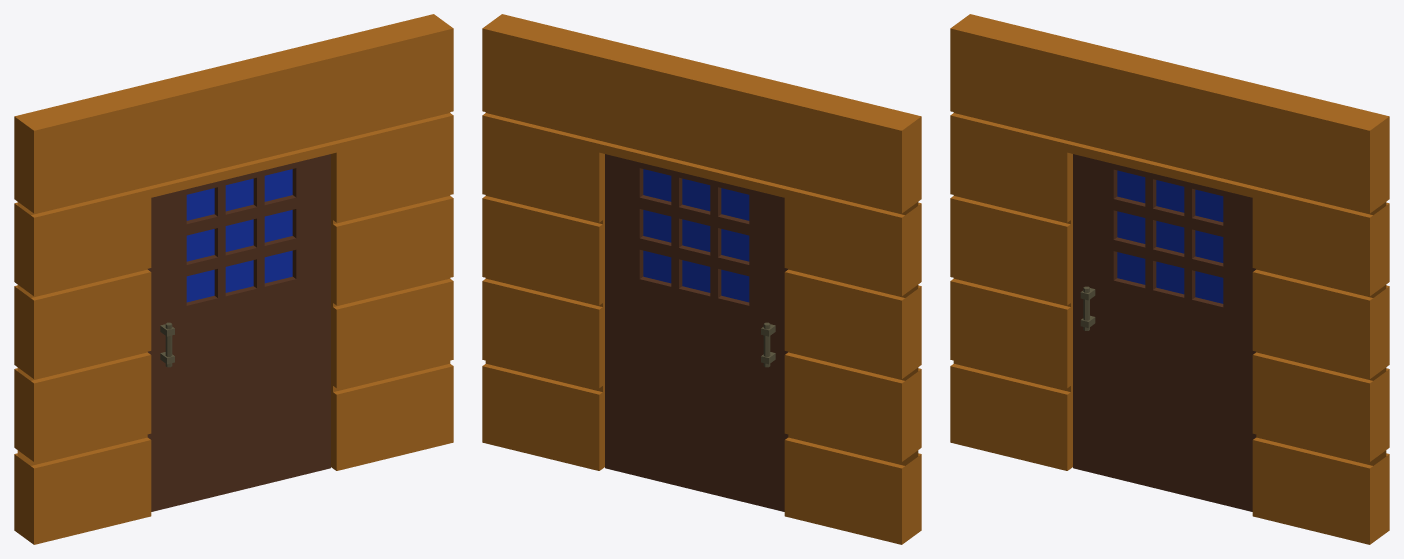
Rendered from Door01_house5.obj.
The picture shows the model from 3 angles, left to right: view 1: azimuth 30°, elevation 25°; view 2: azimuth 150°, elevation 25°; view 3: azimuth 330°, elevation 25°; orthographic projection.
Visible parts, largest first — view 1: Door01_house05_Cube.004; view 2: Door01_house05_Cube.004; view 3: Door01_house05_Cube.004.
Part boxes in pixels (bbox=[...]): Door01_house05_Cube.004: bbox=[14, 14, 453, 544]; Door01_house05_Cube.004: bbox=[482, 14, 921, 544]; Door01_house05_Cube.004: bbox=[950, 14, 1389, 544].
Bounding box in the file's own units: 3.19 × 3.01 × 0.2929.
